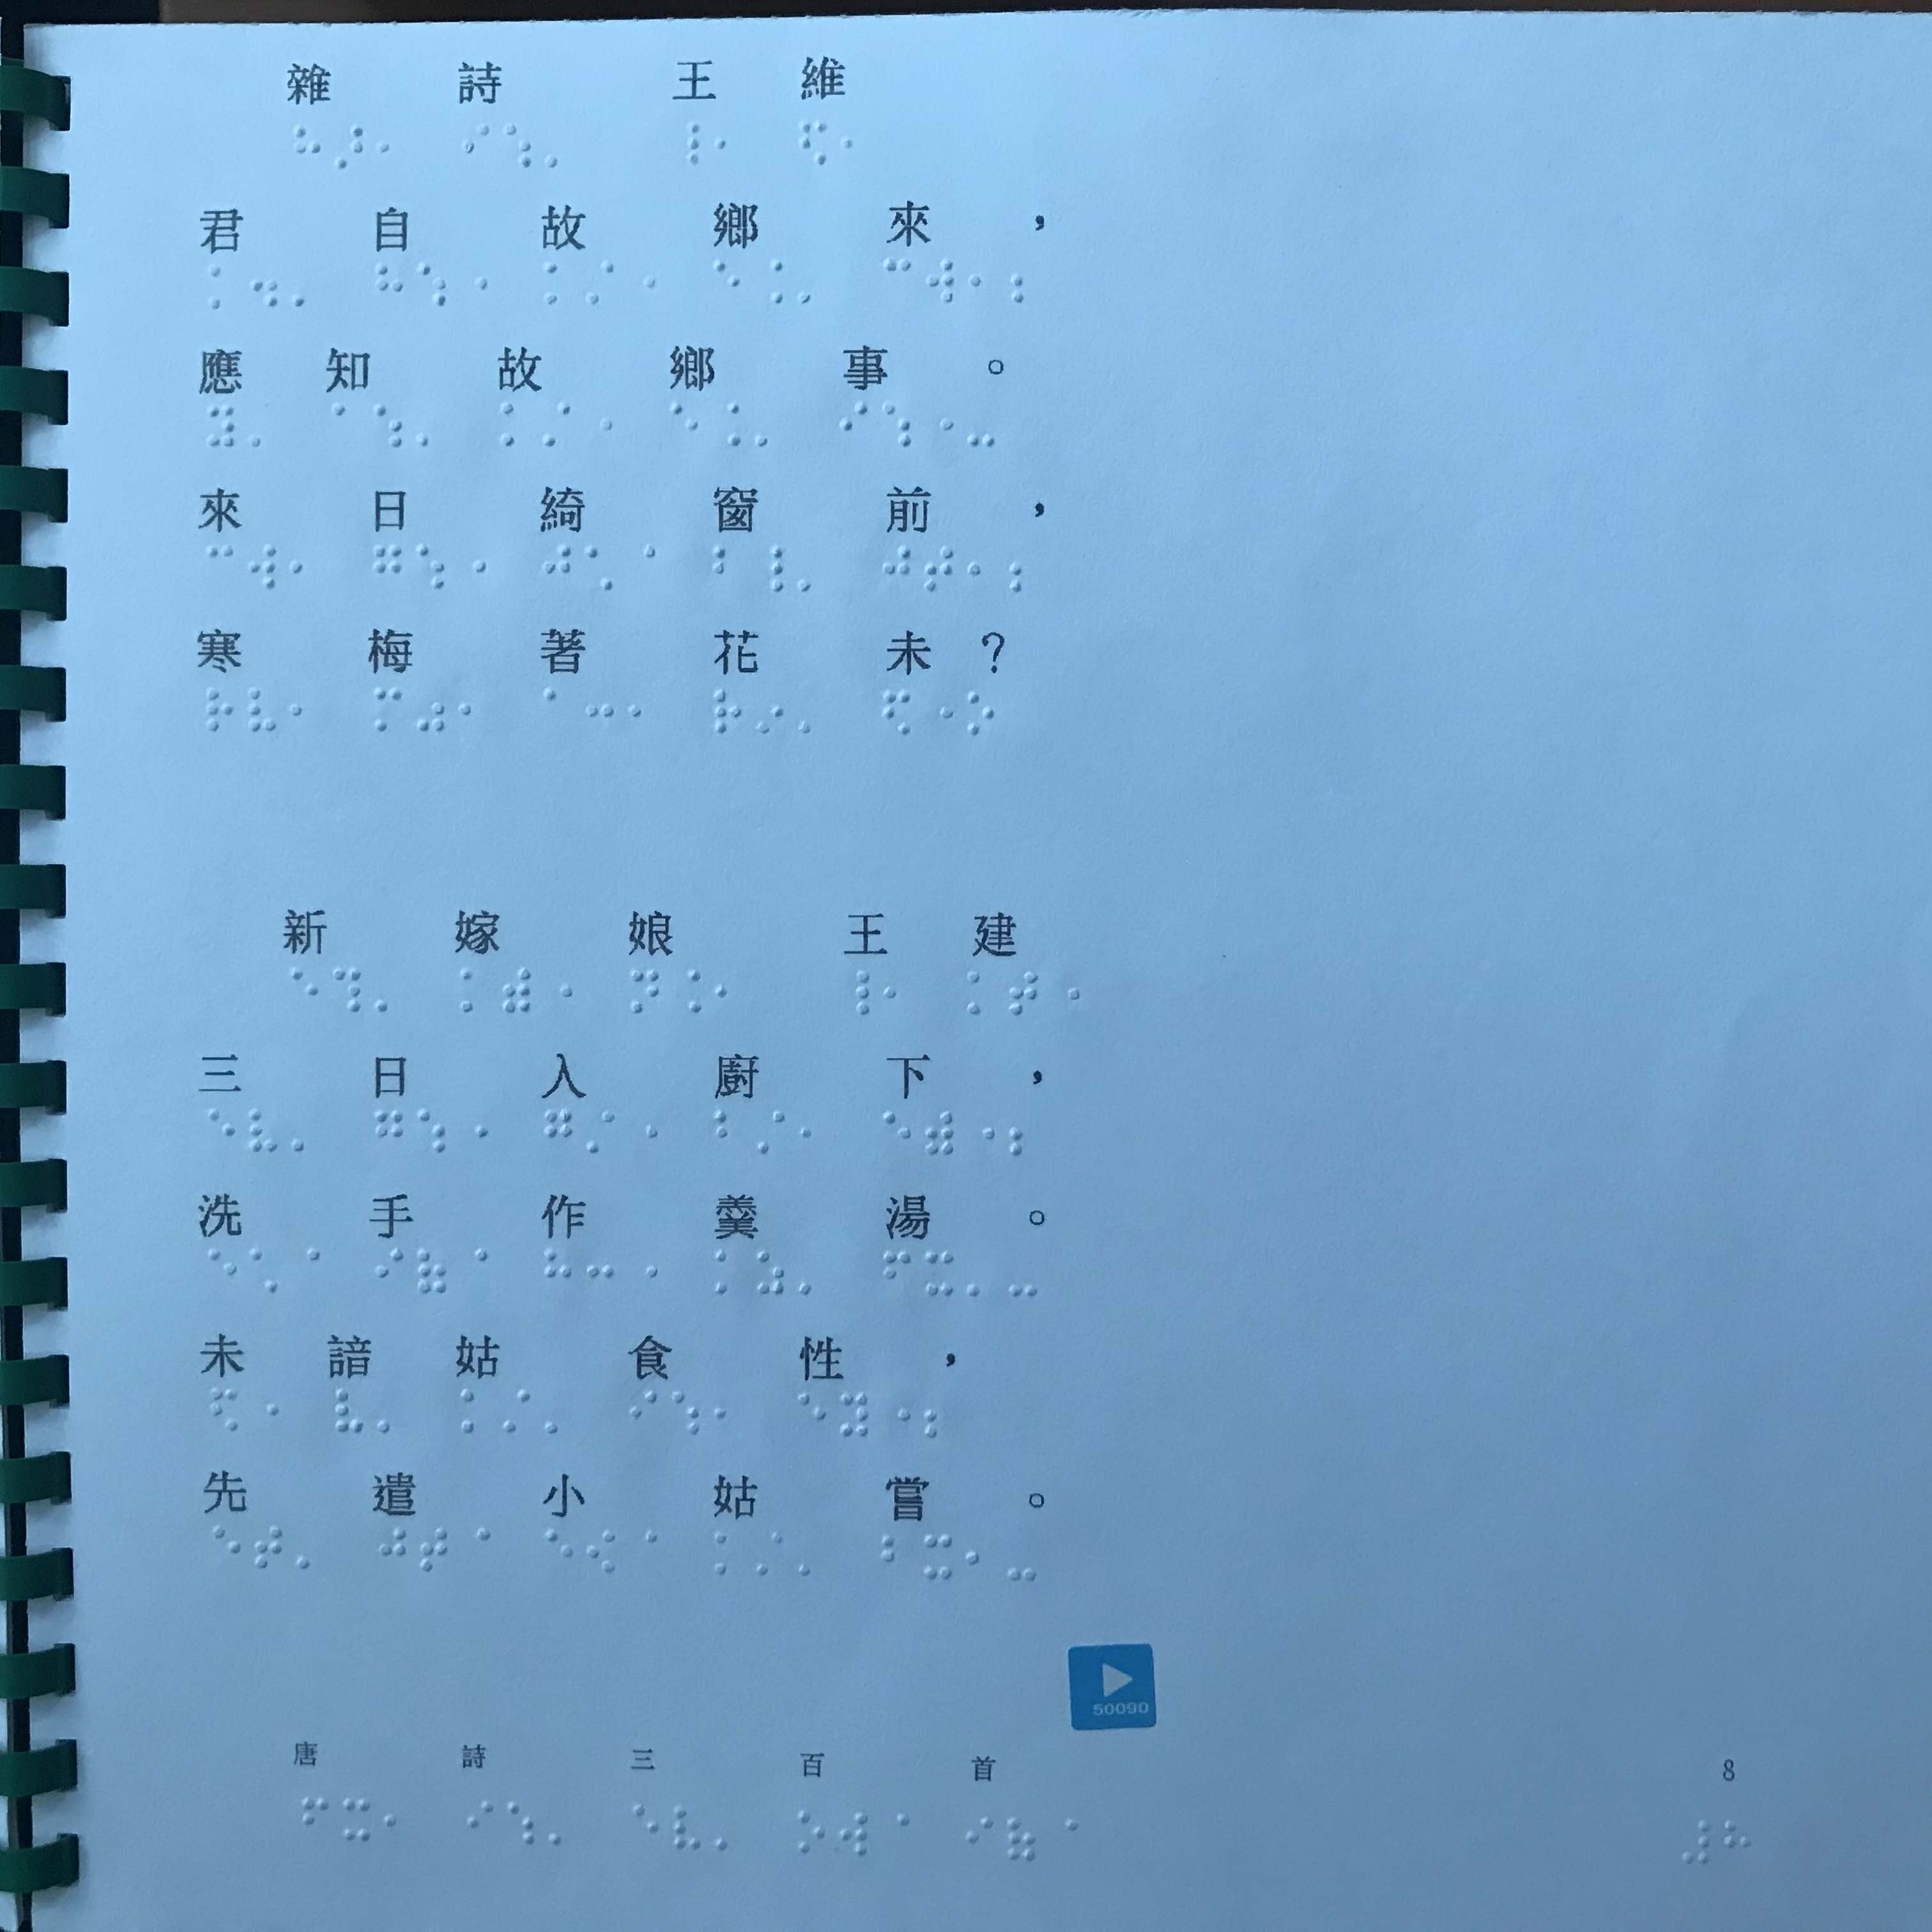Braille: (796, 111, 832, 173), (1679, 1810, 1711, 1872), (840, 115, 874, 173), (1721, 1813, 1753, 1872), (205, 1387, 242, 1437), (1005, 1815, 1042, 1865), (798, 115, 830, 172), (837, 1389, 869, 1445), (669, 964, 702, 1017), (248, 536, 278, 594), (541, 398, 573, 453), (881, 1108, 913, 1162), (964, 1810, 996, 1865), (333, 120, 366, 172), (839, 966, 872, 1017), (370, 1246, 403, 1297), (922, 1247, 955, 1299), (1008, 1251, 1042, 1302), (340, 1794, 373, 1845), (504, 120, 534, 177), (671, 398, 701, 455), (713, 398, 743, 455), (925, 541, 955, 598), (1051, 966, 1081, 1023), (925, 1106, 955, 1162), (418, 1246, 448, 1302), (883, 398, 915, 451), (541, 1106, 573, 1159), (584, 1106, 616, 1159), (584, 1247, 616, 1300), (501, 1387, 533, 1440), (922, 1532, 954, 1585), (384, 1796, 416, 1849), (262, 1387, 295, 1437), (925, 1392, 959, 1442), (297, 1794, 331, 1844), (1010, 253, 1040, 308), (596, 398, 626, 453), (883, 541, 913, 596), (793, 1530, 823, 1585), (292, 122, 324, 173), (460, 120, 492, 172), (207, 262, 239, 313), (881, 688, 913, 740), (626, 964, 658, 1016), (1010, 1108, 1042, 1159), (460, 1387, 492, 1438), (416, 541, 444, 598), (798, 1106, 826, 1162), (628, 1246, 656, 1302), (711, 1385, 740, 1442), (377, 120, 407, 173), (927, 255, 957, 308), (334, 398, 364, 451), (754, 402, 784, 455), (373, 541, 403, 594), (754, 541, 784, 594), (584, 685, 614, 738), (966, 686, 996, 740), (1010, 966, 1040, 1019), (715, 1106, 745, 1159), (964, 1106, 994, 1159), (288, 1246, 318, 1299), (458, 1244, 488, 1297), (966, 1249, 996, 1302), (669, 1389, 699, 1442), (752, 1527, 782, 1580), (671, 1803, 702, 1852), (839, 396, 867, 451), (456, 962, 485, 1017), (547, 1387, 575, 1442), (547, 120, 577, 172), (373, 400, 403, 451), (501, 398, 531, 449), (373, 686, 403, 738), (501, 962, 531, 1014), (964, 968, 994, 1019), (506, 1798, 536, 1849), (584, 258, 616, 306), (205, 1249, 237, 1297), (255, 1525, 287, 1573), (584, 1529, 616, 1576), (625, 1529, 656, 1576), (464, 1798, 495, 1845), (840, 1810, 872, 1858), (419, 258, 448, 311), (883, 255, 911, 308), (543, 541, 571, 594), (587, 545, 616, 598), (626, 685, 655, 738), (543, 961, 571, 1014), (630, 1106, 658, 1159), (755, 1106, 784, 1159), (883, 1391, 911, 1444), (205, 685, 235, 734), (205, 1106, 235, 1155), (248, 1249, 278, 1299), (883, 1247, 913, 1297), (462, 1522, 492, 1571), (543, 1527, 573, 1576), (713, 1529, 743, 1578), (372, 1108, 405, 1152), (752, 690, 784, 736), (713, 119, 740, 173), (377, 260, 403, 315), (249, 1104, 276, 1159), (964, 1529, 991, 1583), (545, 257, 573, 308), (966, 255, 994, 306), (798, 543, 826, 594), (713, 686, 741, 738), (333, 962, 361, 1014), (883, 966, 911, 1017), (630, 1387, 658, 1438), (421, 1522, 449, 1573), (1007, 1532, 1035, 1583), (626, 543, 656, 591), (794, 690, 824, 738), (458, 1109, 488, 1157), (754, 1249, 784, 1297), (333, 1387, 363, 1435), (711, 1806, 741, 1854), (676, 119, 702, 172), (248, 258, 276, 308), (715, 541, 743, 591), (416, 688, 444, 738), (543, 685, 571, 734), (419, 1108, 448, 1157), (715, 1249, 743, 1299), (205, 403, 235, 449), (798, 1810, 828, 1856), (249, 685, 276, 736), (715, 966, 741, 1017), (798, 1391, 824, 1442), (288, 541, 313, 596), (460, 543, 485, 598), (547, 1247, 571, 1302), (1010, 547, 1039, 594), (798, 1251, 826, 1299), (380, 1525, 409, 1573), (883, 1534, 911, 1582), (290, 258, 315, 311), (474, 262, 501, 311), (713, 258, 740, 308), (205, 538, 232, 587), (968, 545, 994, 594), (455, 688, 481, 738), (416, 405, 444, 451), (971, 395, 994, 451), (295, 1529, 324, 1575), (938, 396, 962, 448), (927, 686, 952, 738), (800, 258, 826, 306), (290, 966, 317, 1014), (373, 966, 400, 1014), (379, 1387, 405, 1435), (211, 1523, 237, 1571), (633, 1801, 660, 1849), (883, 1812, 911, 1856), (759, 258, 784, 308), (248, 403, 274, 449), (290, 1109, 317, 1155), (1053, 1815, 1079, 1861), (644, 258, 669, 306), (547, 1801, 573, 1845), (287, 688, 311, 734)
